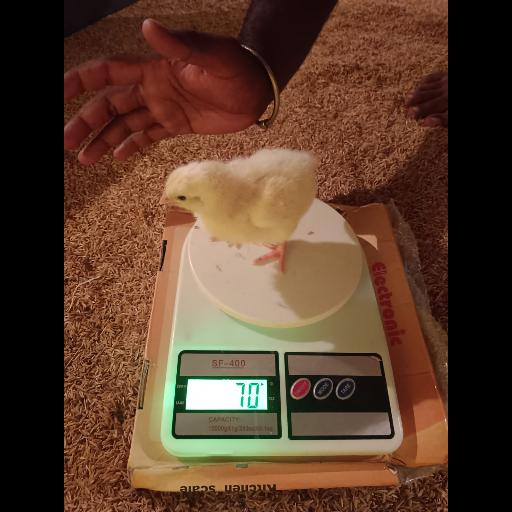chick: (159, 148, 319, 274)
